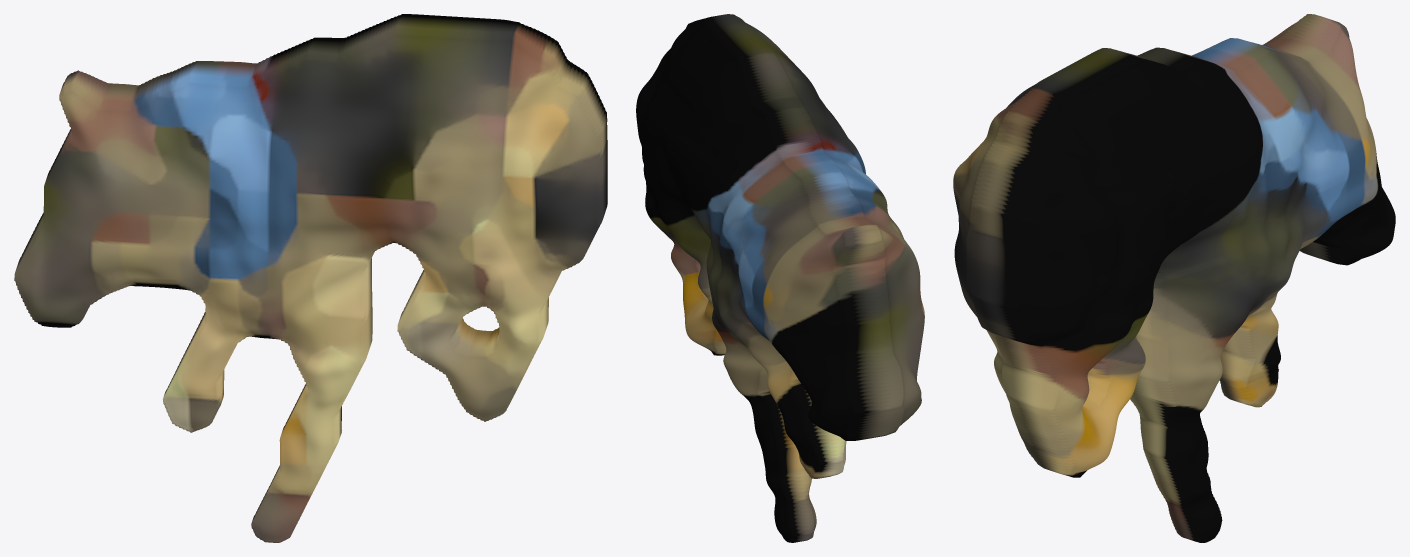
Rendered from attack_dog.glb.
3 views of the same model, side by side, from view 1: azimuth 30°, elevation 25°; view 2: azimuth 150°, elevation 25°; view 3: azimuth 270°, elevation 25° (orthographic). The views are drawn at different scales.
Visible parts, largest first — view 1: allied_attack_dog; view 2: allied_attack_dog; view 3: allied_attack_dog.
Part boxes in pixels (x1,y1,x2,y2): allied_attack_dog: (14,14,607,542); allied_attack_dog: (636,14,924,542); allied_attack_dog: (953,14,1395,542).
Size of the model in its own units: 1.71 by 1.95 by 1.48.
